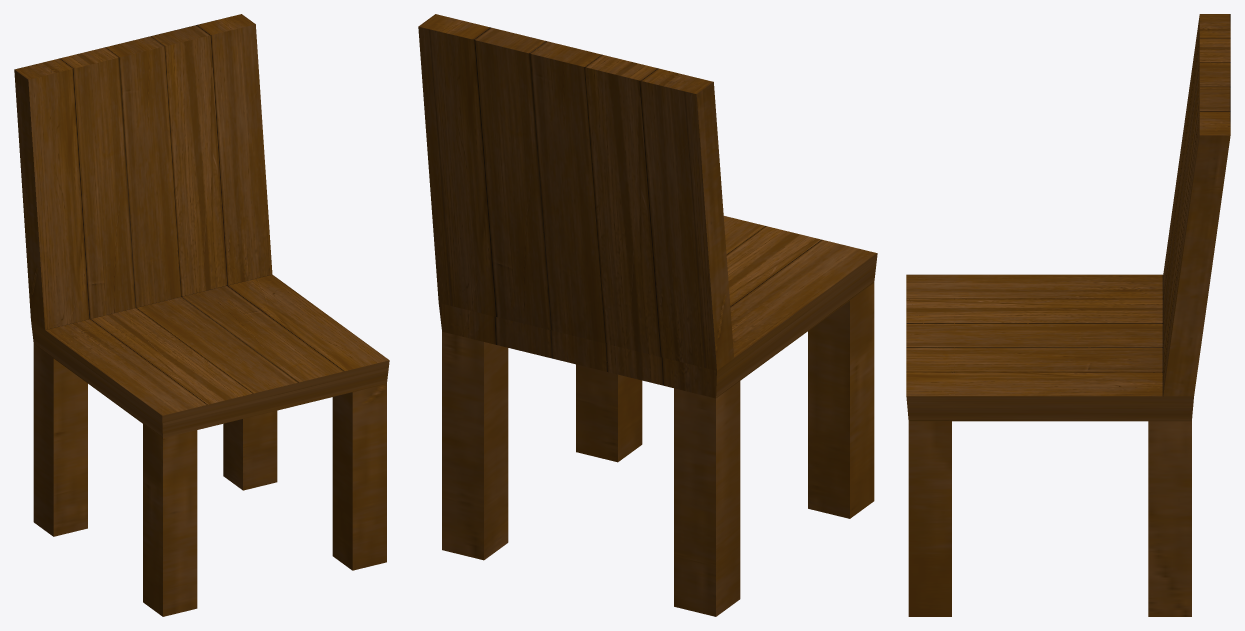
The model's file is Chair.glb.
The picture shows the model from 3 angles, left to right: view 1: azimuth 30°, elevation 25°; view 2: azimuth 150°, elevation 25°; view 3: azimuth 270°, elevation 25°; orthographic projection. The views are drawn at different scales.
Visible parts, largest first — view 1: Chair; view 2: Chair; view 3: Chair.
Part boxes in pixels (box(x1,y1,x2,y2)): Chair: box(14, 14, 389, 616); Chair: box(418, 14, 877, 616); Chair: box(906, 14, 1230, 616).
Bounding box in the file's own units: 0.7627 × 1.41 × 0.8593.
1 material, 1 textured.
